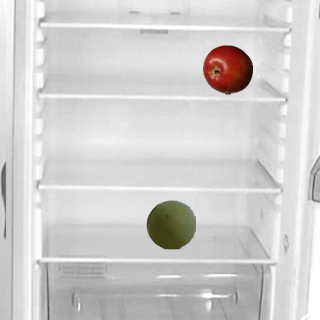Apple Braeburn: (202, 44, 252, 94)
Grape White 4: (145, 199, 195, 249)
